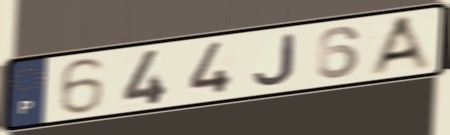4: (120, 46, 172, 108), (186, 38, 235, 98)
6: (56, 55, 109, 117), (315, 24, 365, 81)
A: (365, 12, 437, 77)
J: (251, 32, 298, 87)
